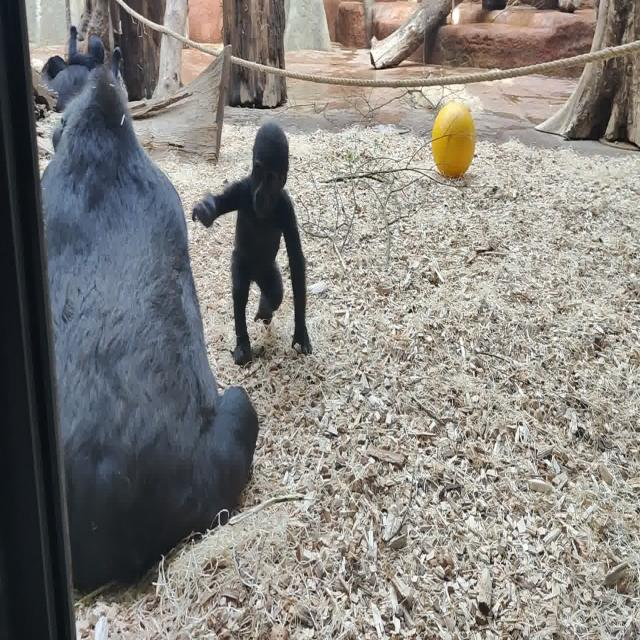monkey: (40, 65, 259, 594), (192, 122, 313, 366), (69, 24, 122, 79)
